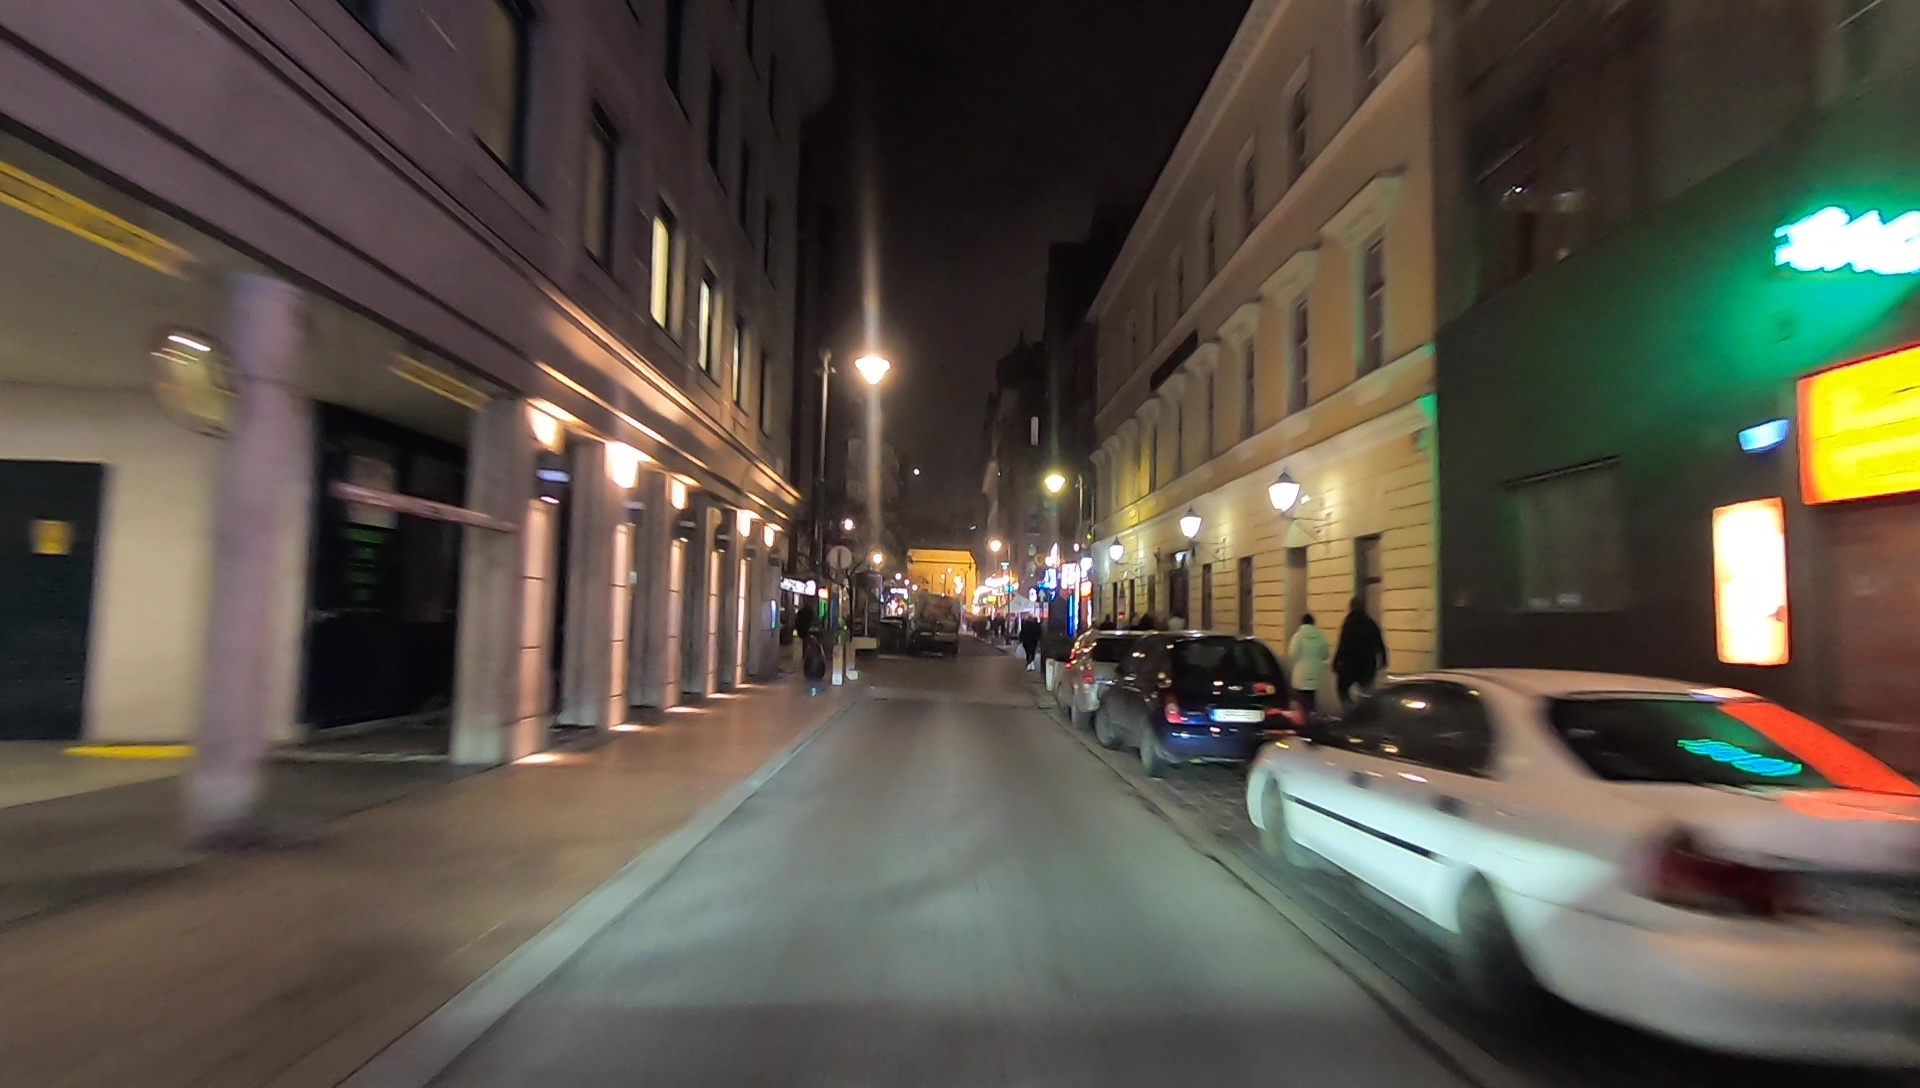person: (1336, 593, 1384, 732), (1284, 608, 1325, 708)
